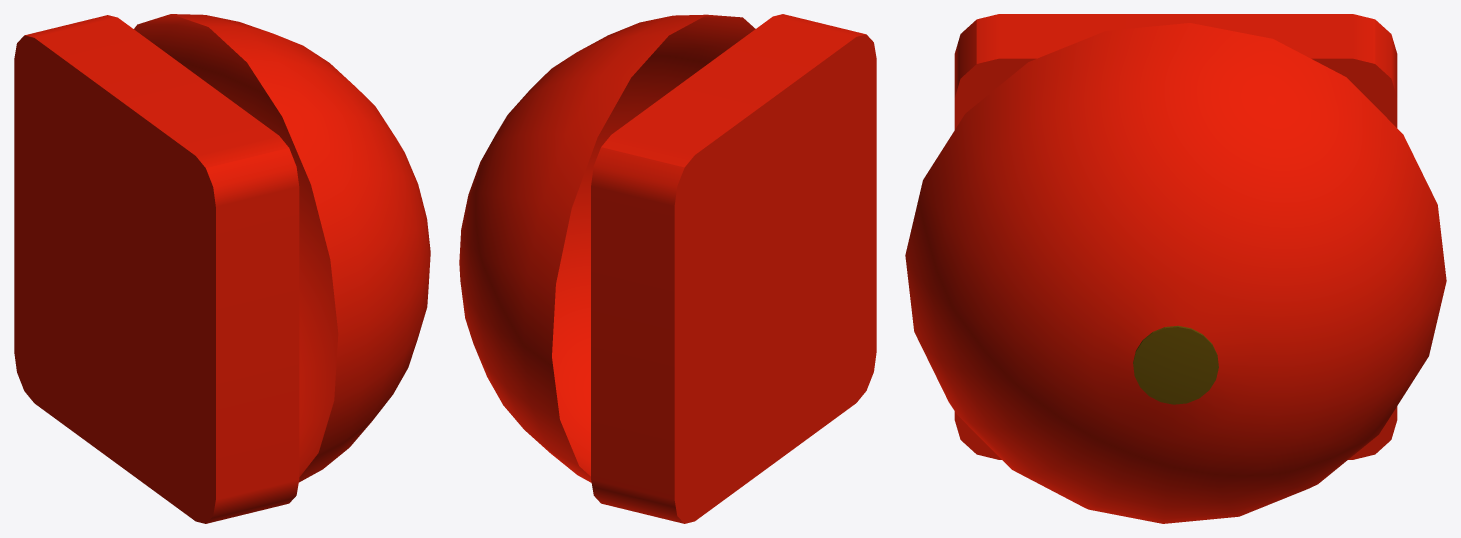
The model's file is Firealarm_policePost.fbx.
3 views of the same model, side by side, from view 1: azimuth 30°, elevation 25°; view 2: azimuth 150°, elevation 25°; view 3: azimuth 270°, elevation 25° (orthographic). The views are drawn at different scales.
Parts seen in each view (by area): view 1: pCube12, pSphere1; view 2: pCube12, pSphere1; view 3: pSphere1, pCube12.
Part boxes in pixels (x1,y1,x2,y2): pCube12: (14,15,299,523); pSphere1: (134,14,430,482); pCube12: (591,14,876,523); pSphere1: (459,14,755,482); pSphere1: (905,23,1446,523); pCube12: (954,14,1397,459).
Size of the model in its own units: 16 by 23.98 by 23.98.
